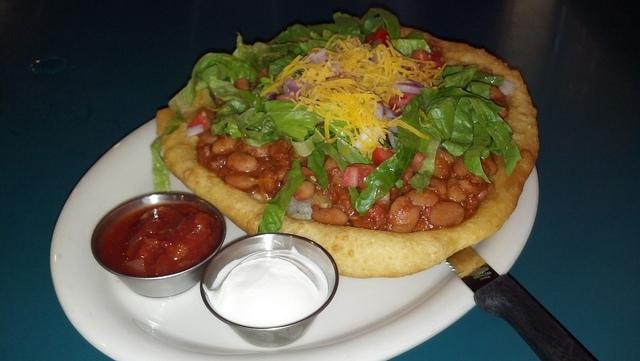lettuce: (442, 96, 522, 178), (350, 127, 422, 216), (168, 52, 257, 117), (266, 111, 326, 142), (464, 123, 491, 183), (210, 107, 256, 138), (270, 24, 328, 44), (426, 102, 456, 140), (242, 112, 276, 139), (268, 54, 294, 82), (210, 76, 238, 97)
onion: (392, 79, 423, 95), (498, 78, 515, 95), (309, 47, 326, 63), (284, 79, 300, 95), (186, 124, 204, 137), (387, 127, 397, 149), (376, 101, 384, 120)
tomato: (342, 163, 378, 190), (489, 85, 509, 119), (188, 107, 215, 131), (364, 26, 391, 47), (166, 240, 191, 262), (388, 93, 418, 109), (372, 148, 395, 168), (409, 150, 426, 176), (232, 76, 250, 91), (412, 50, 431, 60)
